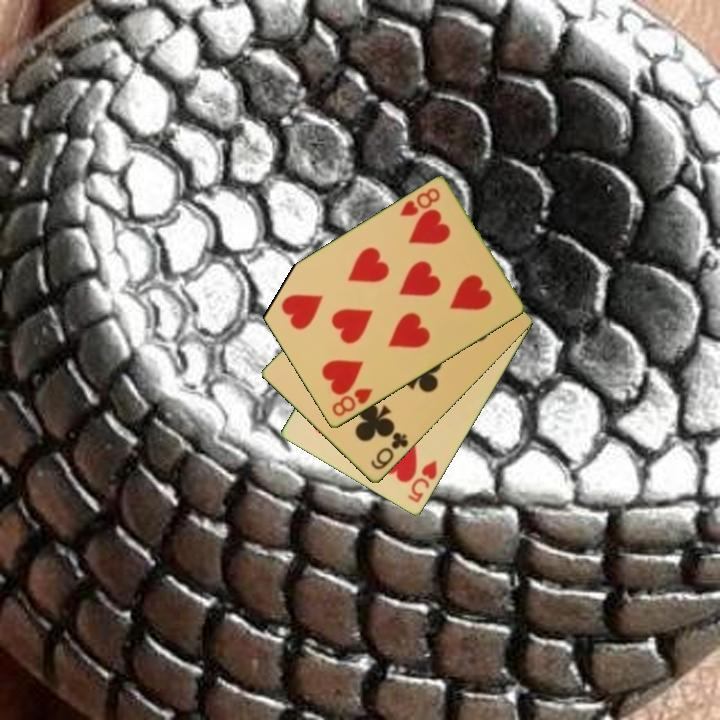5h: (404, 457, 440, 506)
6c: (367, 429, 411, 473)
8h: (396, 184, 443, 220), (328, 385, 376, 420)
